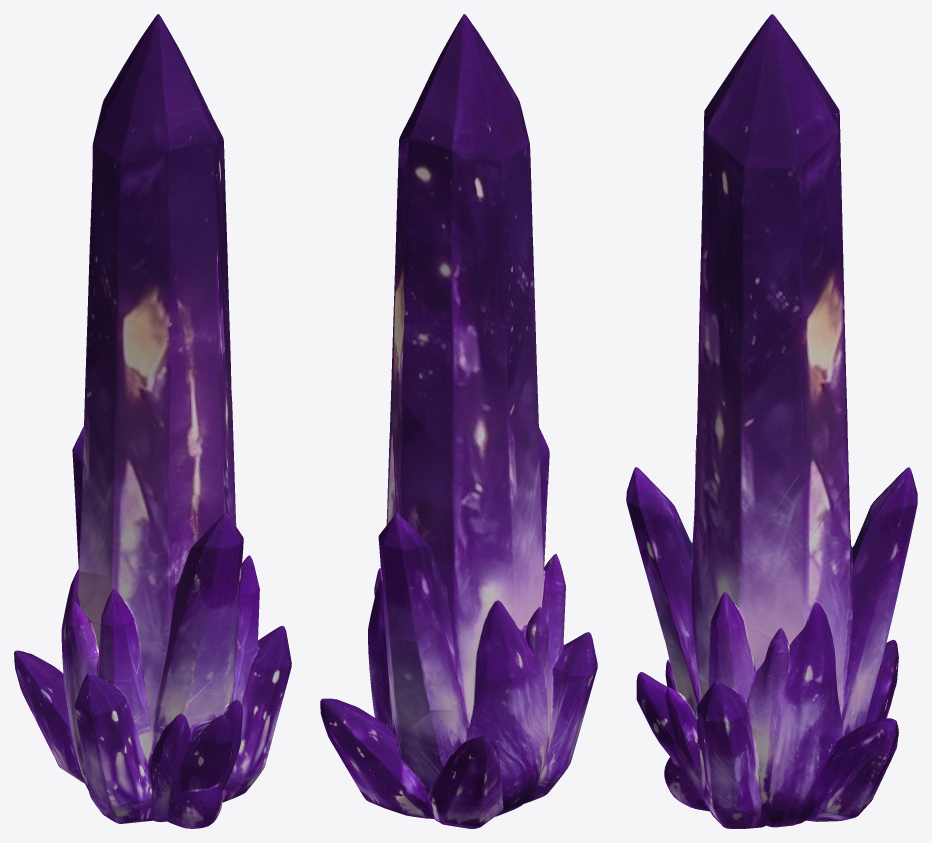
File: violet-1k.glb
3 renders of one model, left to right at view 1: azimuth 30°, elevation 25°; view 2: azimuth 150°, elevation 25°; view 3: azimuth 270°, elevation 25°, orthographic.
Bounding box in the file's own units: 0.5334 × 1.9 × 0.6339.
1 material, 1 textured.
